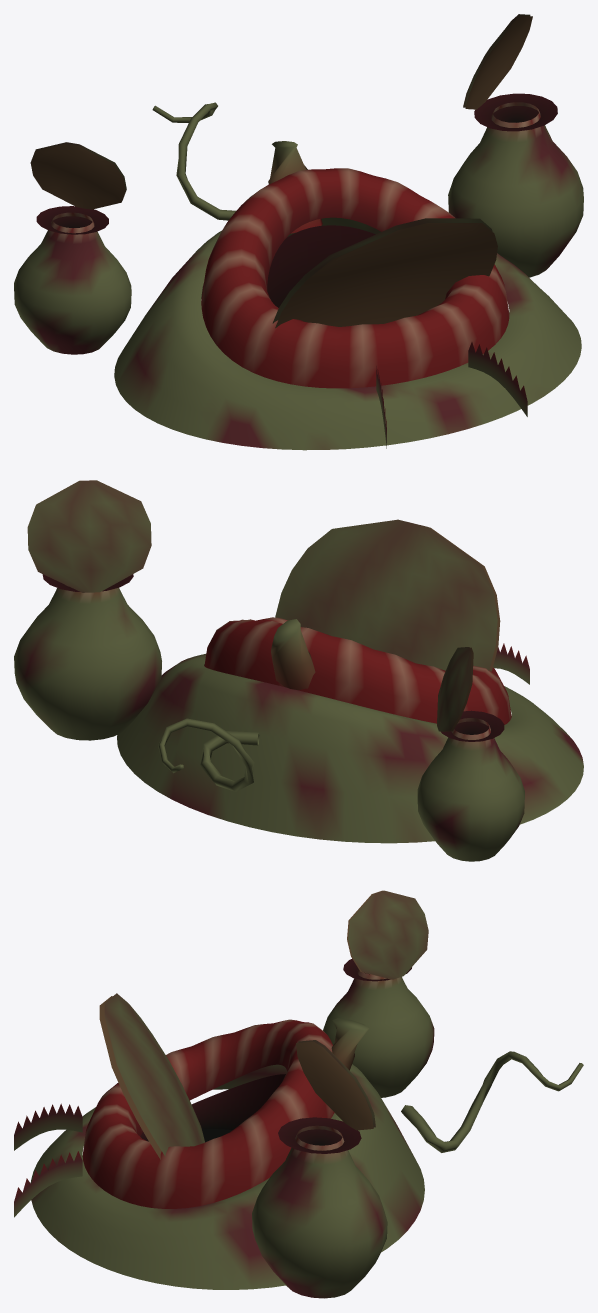
The model's file is pitcher.glb.
The picture shows the model from 3 angles, top to bottom: view 1: azimuth 30°, elevation 25°; view 2: azimuth 150°, elevation 25°; view 3: azimuth 270°, elevation 25°; orthographic projection. The views are drawn at different scales.
Parts seen in each view (by area): view 1: pitcher, pitcher_lid; view 2: pitcher, pitcher_lid; view 3: pitcher, pitcher_lid.
Boxes of the visible parts, x1,y1,x2,y2 form: pitcher: (14,14,583,450); pitcher_lid: (272,218,497,328); pitcher: (14,480,583,861); pitcher_lid: (275,519,500,671); pitcher: (14,890,583,1298); pitcher_lid: (99,993,204,1159).
Size of the model in its own units: 3.05 by 1.42 by 2.94.
